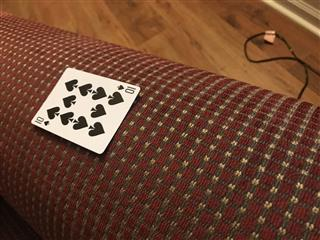TenOfSpades: (30, 66, 141, 155)
